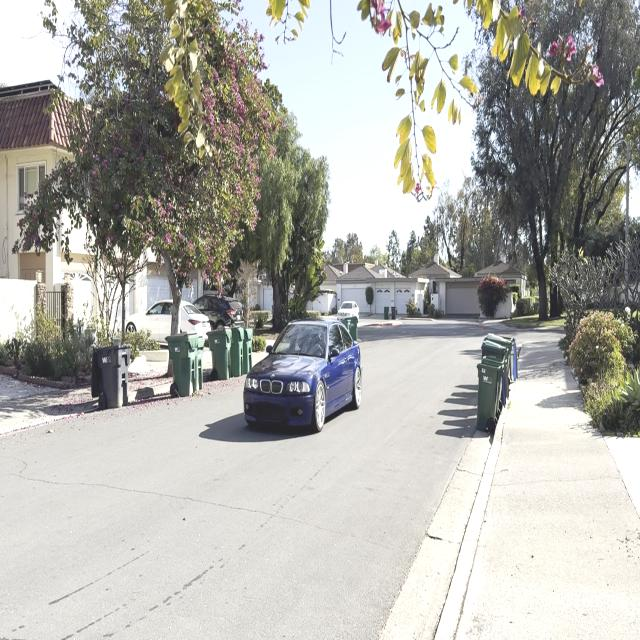Carbeetle: (239, 314, 368, 433)
